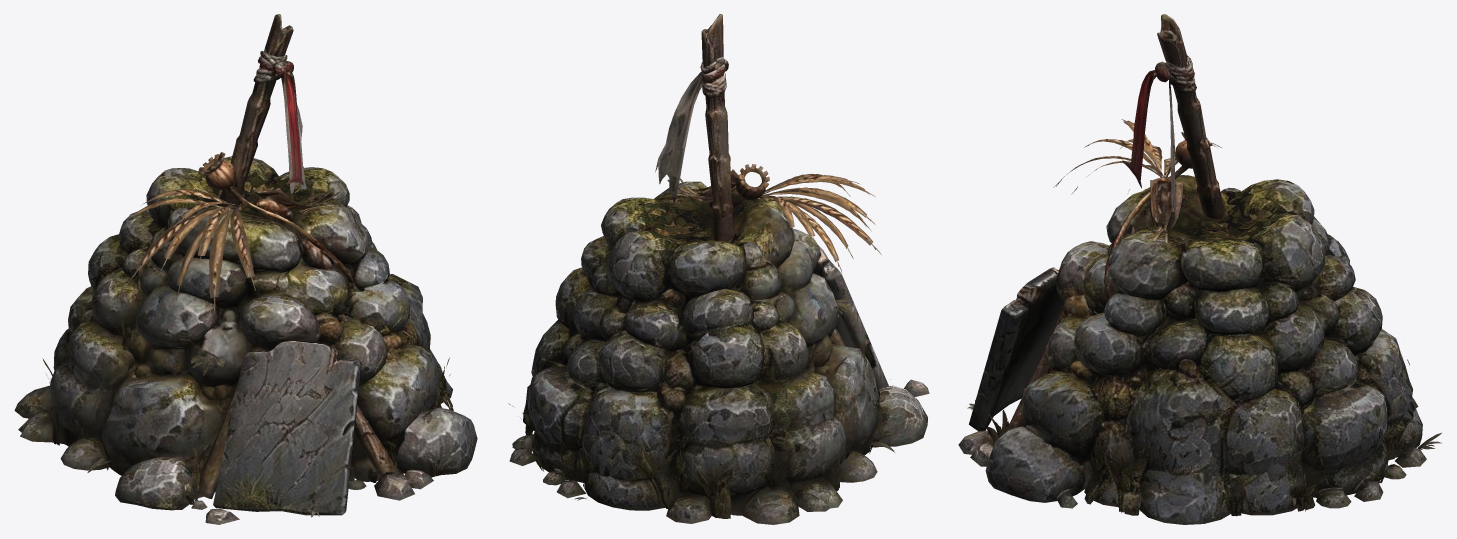
Rendered from act1-a22-4-harvester-cairn.glb.
The picture shows the model from 3 angles, left to right: view 1: azimuth 30°, elevation 25°; view 2: azimuth 150°, elevation 25°; view 3: azimuth 270°, elevation 25°; orthographic projection. The views are drawn at different scales.
Visible parts, largest first — view 1: act1-a22-4-harvester-cairn; view 2: act1-a22-4-harvester-cairn; view 3: act1-a22-4-harvester-cairn.
Part boxes in pixels (bbox=[...]): act1-a22-4-harvester-cairn: bbox=[14, 14, 477, 524]; act1-a22-4-harvester-cairn: bbox=[508, 14, 929, 524]; act1-a22-4-harvester-cairn: bbox=[958, 14, 1441, 524].
Bounding box in the file's own units: 1.2 × 1.32 × 1.34.
1 material, 1 textured.
